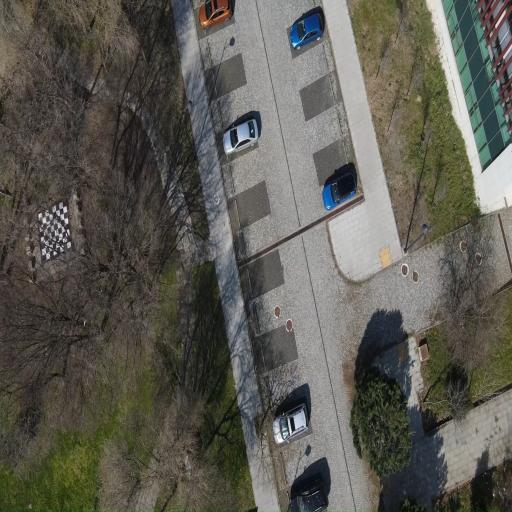car: (273, 404, 308, 443), (223, 119, 259, 155), (290, 478, 328, 511), (323, 172, 356, 210), (290, 13, 323, 49), (199, 0, 232, 30)
